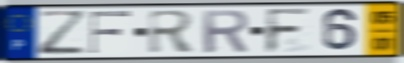6: (321, 7, 359, 54)
F: (263, 7, 313, 55), (87, 10, 133, 56)
R: (199, 8, 251, 55), (147, 9, 198, 56)
Z: (36, 9, 90, 57)
